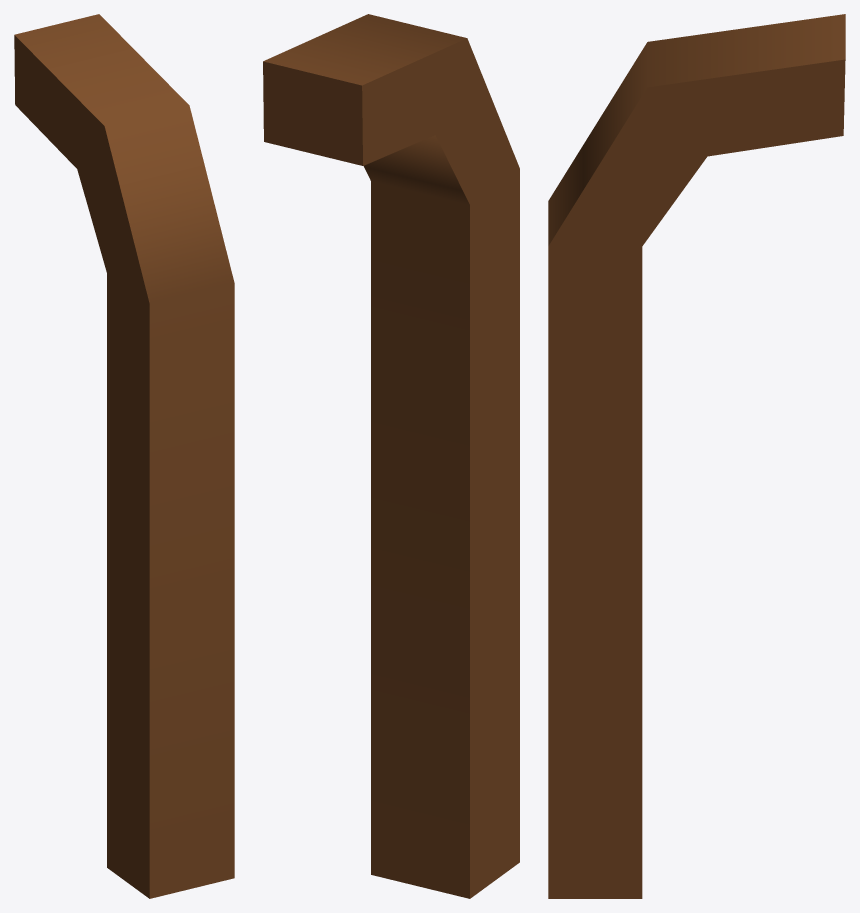
Rendered from Elderly_Stick_Rig.fbx.
3 views of the same model, side by side, from view 1: azimuth 30°, elevation 25°; view 2: azimuth 150°, elevation 25°; view 3: azimuth 270°, elevation 25° (orthographic). The views are drawn at different scales.
Parts seen in each view (by area): view 1: walking_stick; view 2: walking_stick; view 3: walking_stick.
Part boxes in pixels (x1,y1,x2,y2): walking_stick: [14, 14, 234, 898]; walking_stick: [263, 14, 519, 898]; walking_stick: [548, 14, 845, 898].
Bounding box in the file's own units: 0.2085 × 1.79 × 0.5753.
